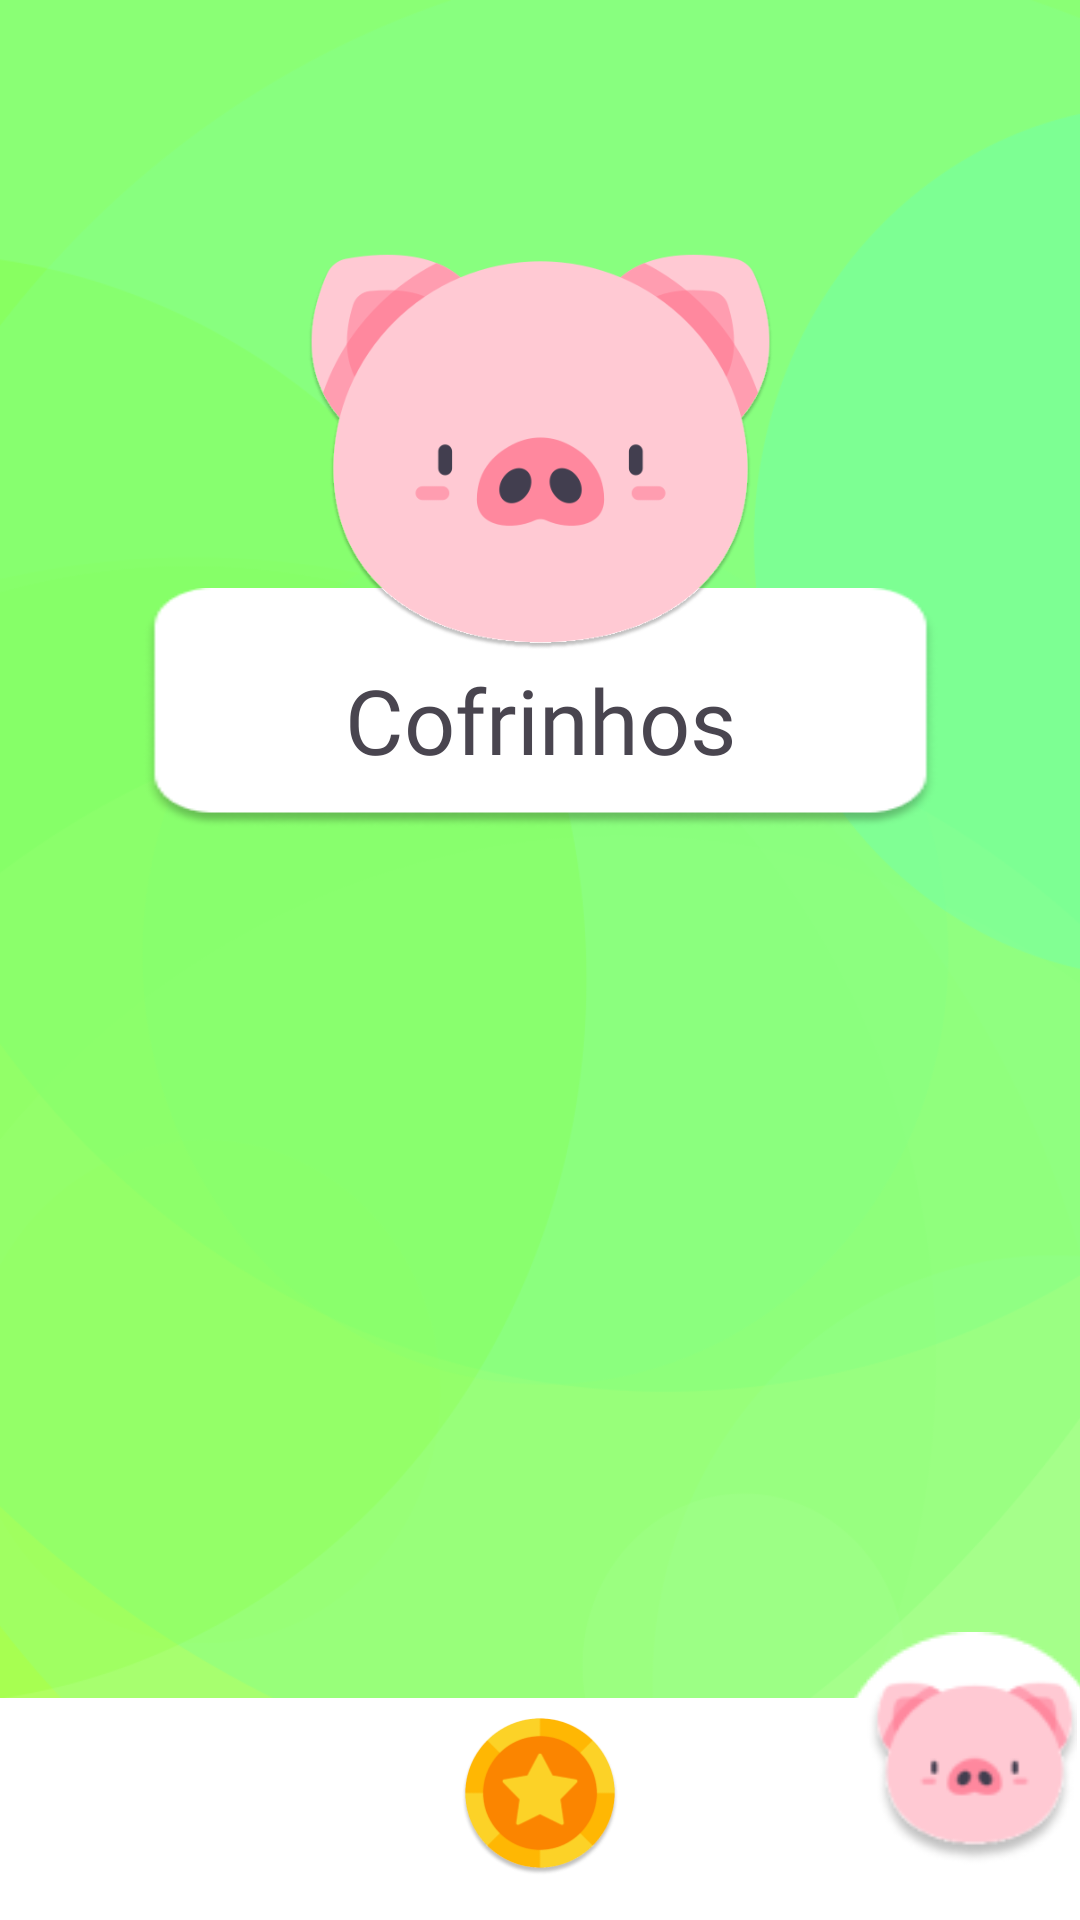

Icons on this 1080×1920 Android screen, each with the point to tap as point (x, y):
coin: point (540, 1795)
